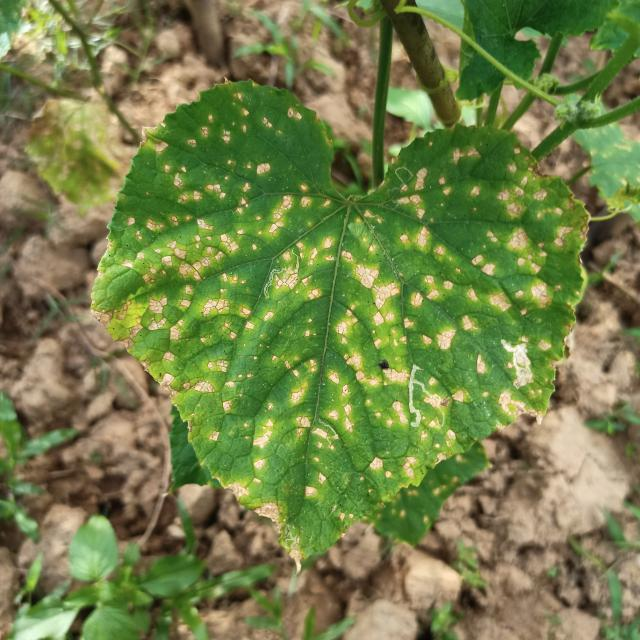disease_cucumber: (115, 97, 567, 509)
